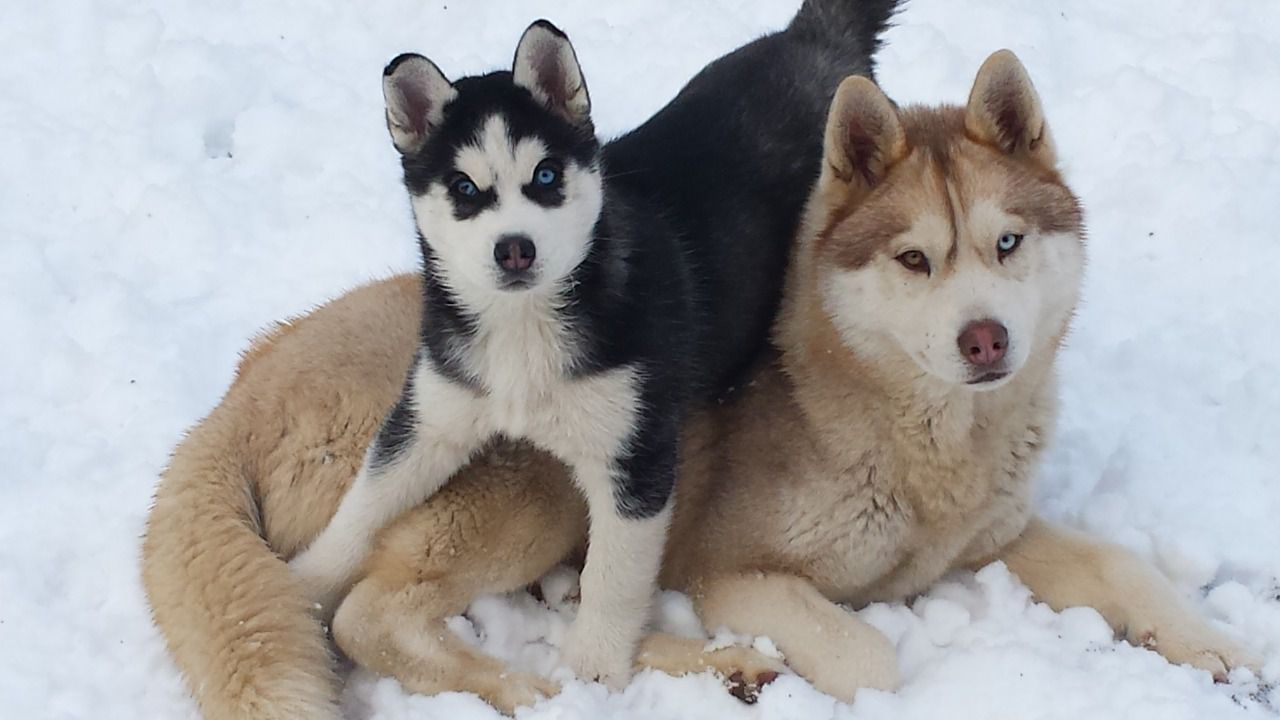husky: (334, 18, 690, 680), (762, 68, 1100, 614)
